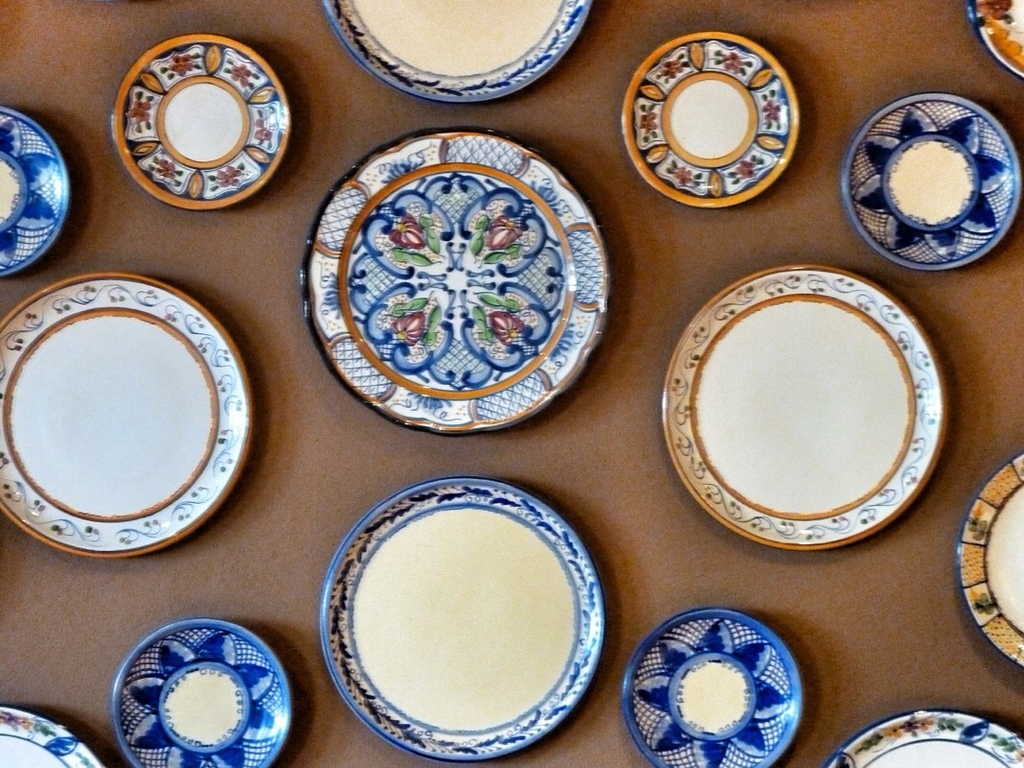plate: (302, 125, 616, 437), (664, 254, 952, 566), (319, 475, 605, 761), (839, 91, 1022, 272), (622, 31, 803, 209), (108, 37, 292, 210)
